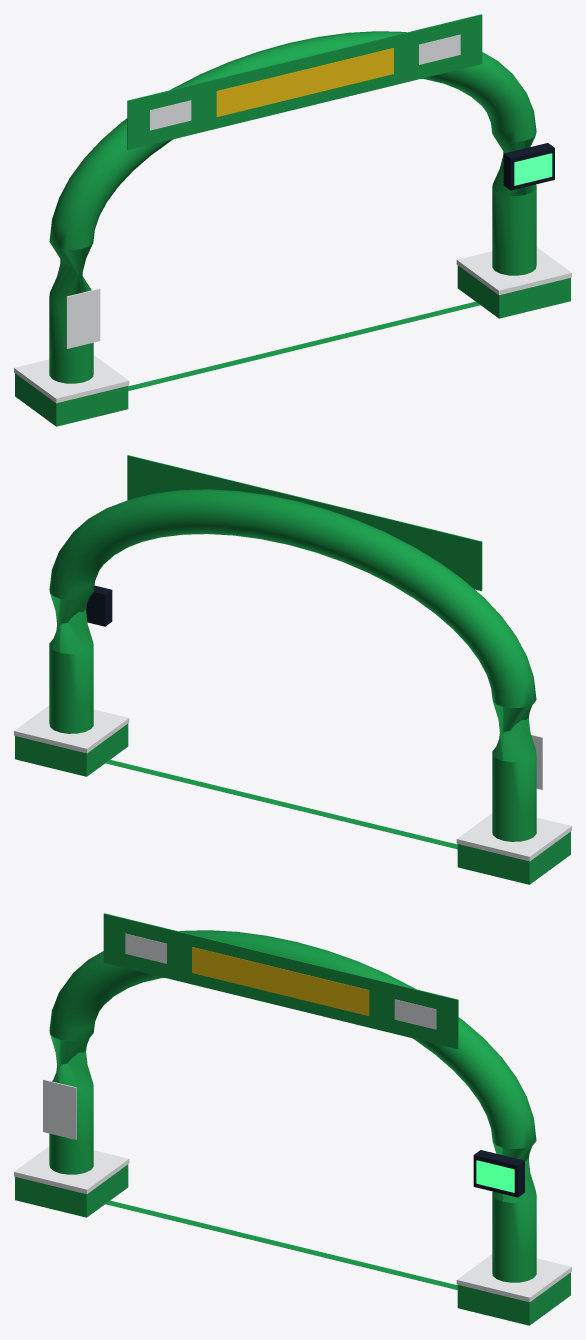
Rendered from arch_sprint.glb.
3 views of the same model, one above another, from view 1: azimuth 30°, elevation 25°; view 2: azimuth 150°, elevation 25°; view 3: azimuth 330°, elevation 25° (orthographic).
Parts seen in each view (by area): view 1: Arch_Sprint; view 2: Arch_Sprint; view 3: Arch_Sprint.
Part boxes in pixels (bbox=[...]): Arch_Sprint: bbox=[14, 14, 571, 426]; Arch_Sprint: bbox=[14, 455, 571, 884]; Arch_Sprint: bbox=[14, 913, 571, 1325].
Bounding box in the file's own units: 9.32 × 5.25 × 1.32.
